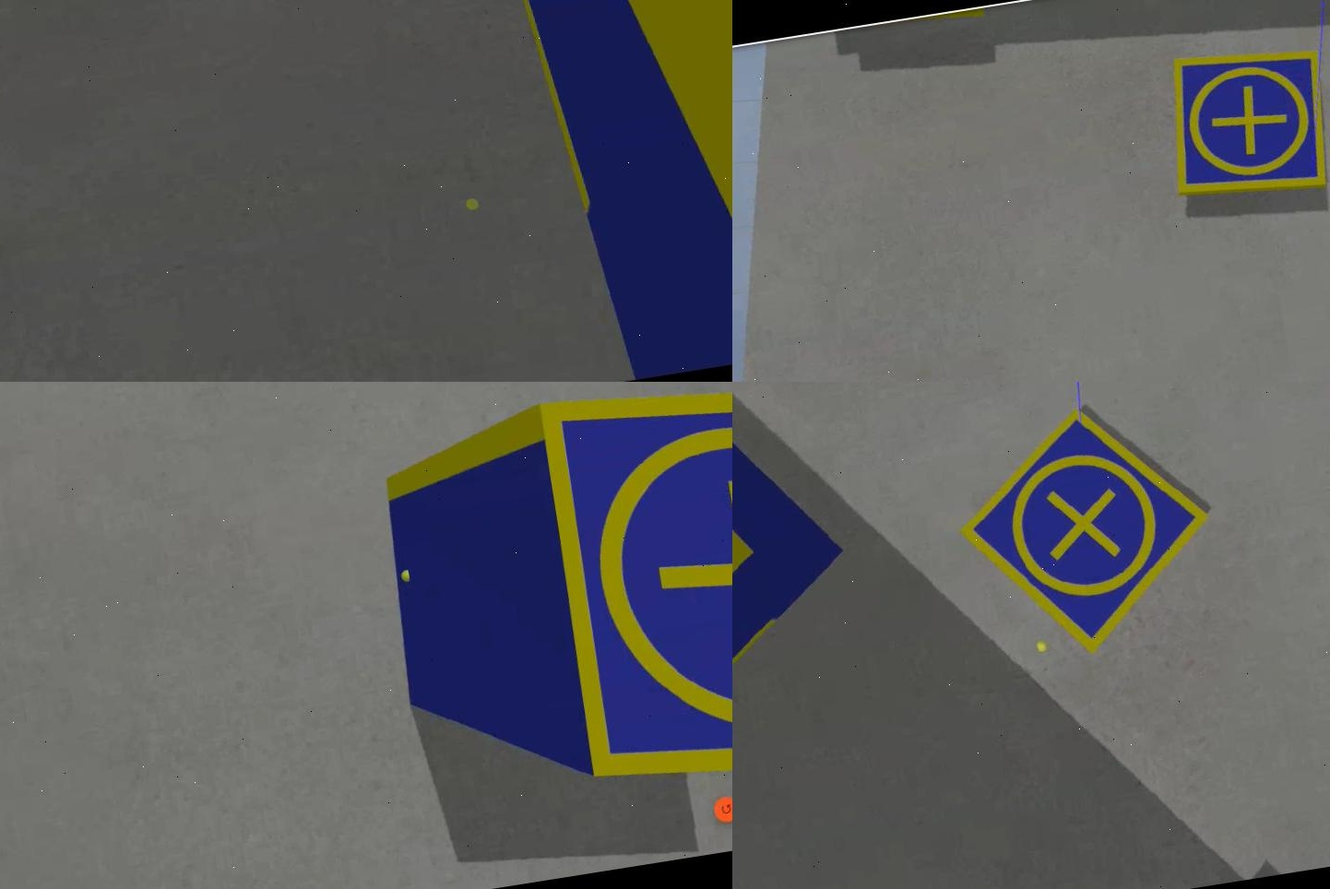large_base: (491, 1, 731, 382), (731, 382, 877, 864)
small_base: (531, 382, 731, 810), (942, 387, 1231, 676), (1155, 39, 1328, 209)
